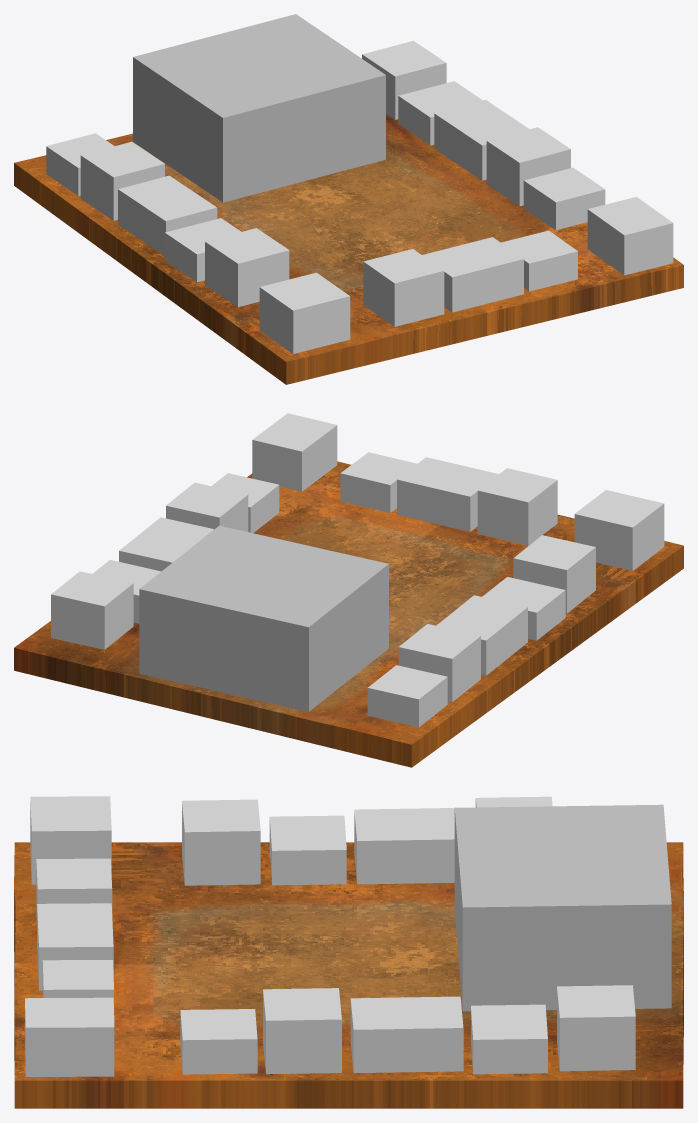
Rendered from pueblo.glb.
3 views of the same model, one above another, from view 1: azimuth 30°, elevation 25°; view 2: azimuth 150°, elevation 25°; view 3: azimuth 270°, elevation 25° (orthographic). The views are drawn at different scales.
Visible parts, largest first — view 1: Piso, IGLESIA-col, CASA2.004-col, CASA4.004-col, CASA2.002-col, CASA3.002-col, CASA5-col, CASA3-col, CASA2.003-col, CASA3.003-col, CASA2-col, CASA1.002-col (+5 smaller); view 2: Piso, IGLESIA-col, CASA2.004-col, CASA5.-col, CASA4.004-col, CASA3.002-col, CASA2.002-col, CASA2-col, CASA5-col, CASA3-col, CASA1-col, CASA4.002-col (+5 smaller); view 3: Piso, IGLESIA-col, CASA3.003-col, CASA3-col, CASA4.004-col, CASA5-col, CASA5.-col, CASA2.003-col, CASA4-col, CASA2.004-col, CASA4.003-col, CASA1.002-col (+4 smaller).
Boxes of the visible parts, x1,y1,x2,y2 form: Piso: [14, 114, 683, 384]; IGLESIA-col: [133, 14, 385, 202]; CASA2.004-col: [259, 272, 350, 353]; CASA4.004-col: [587, 197, 673, 275]; CASA2.002-col: [363, 249, 444, 326]; CASA3.002-col: [422, 237, 523, 312]; CASA5-col: [205, 228, 289, 307]; CASA3-col: [118, 175, 217, 255]; CASA2.003-col: [486, 127, 570, 206]; CASA3.003-col: [434, 99, 529, 180]; CASA2-col: [80, 141, 164, 220]; CASA1.002-col: [523, 167, 605, 230]; Piso: [14, 461, 683, 767]; IGLESIA-col: [139, 525, 388, 711]; CASA2.004-col: [574, 490, 664, 570]; CASA5.-col: [51, 571, 133, 649]; CASA4.004-col: [252, 413, 337, 491]; CASA3.002-col: [397, 457, 498, 531]; CASA2.002-col: [477, 468, 557, 545]; CASA2-col: [398, 624, 480, 702]; CASA5-col: [513, 535, 595, 613]; CASA3-col: [436, 595, 527, 675]; CASA1-col: [367, 665, 447, 727]; CASA4.002-col: [340, 452, 416, 512]; Piso: [14, 842, 683, 1108]; IGLESIA-col: [454, 804, 671, 1011]; CASA3.003-col: [350, 996, 463, 1073]; CASA3-col: [354, 808, 454, 884]; CASA4.004-col: [25, 997, 114, 1076]; CASA5-col: [182, 799, 260, 885]; CASA5.-col: [557, 985, 635, 1071]; CASA2.003-col: [263, 988, 341, 1074]; CASA4-col: [269, 815, 346, 885]; CASA2.004-col: [30, 796, 111, 884]; CASA4.003-col: [471, 1004, 547, 1074]; CASA1.002-col: [180, 1009, 257, 1074].
Bounding box in the file's own units: 36.35 × 9.39 × 43.16.
2 materials, 2 textured.
